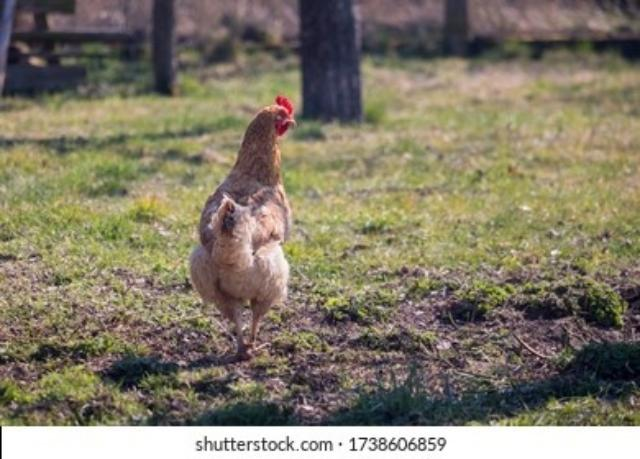Chicken: (188, 96, 299, 359)
